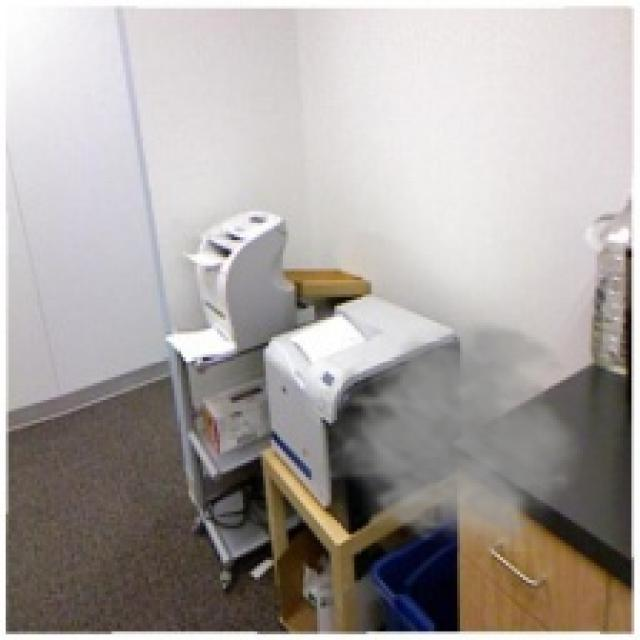Smoke: (314, 306, 589, 552)
